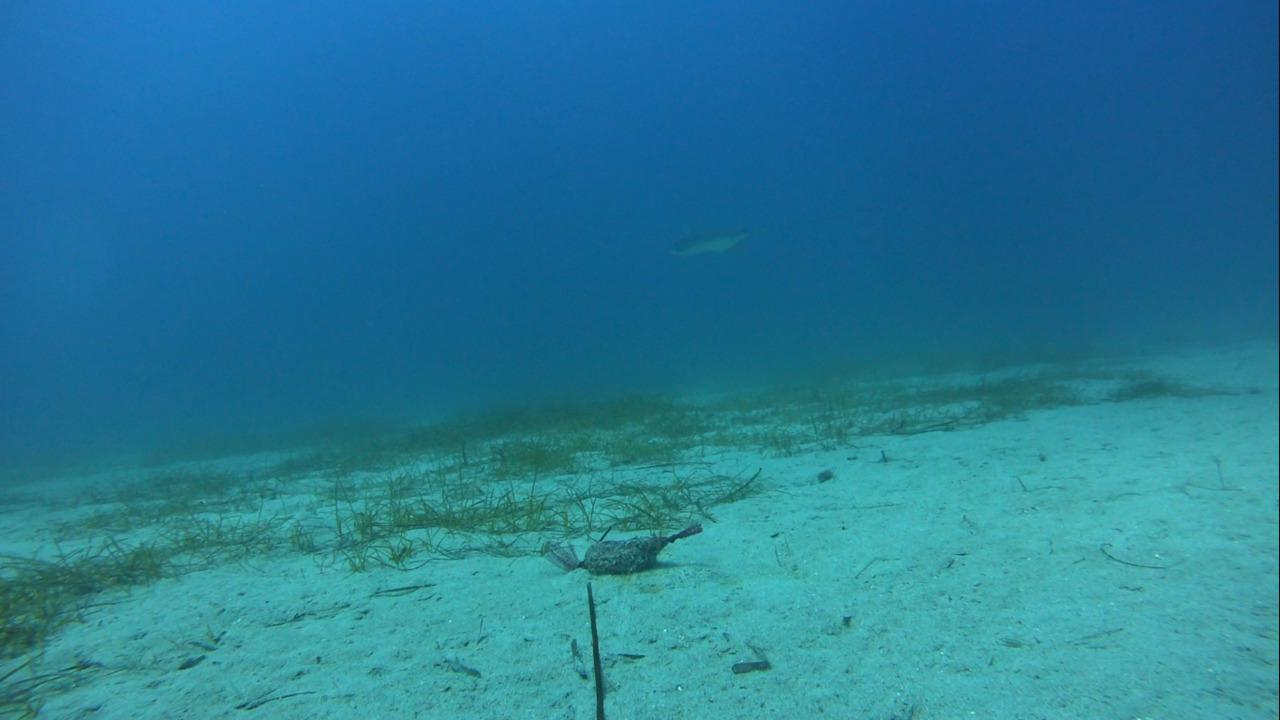myliobatis: (652, 204, 840, 267)
